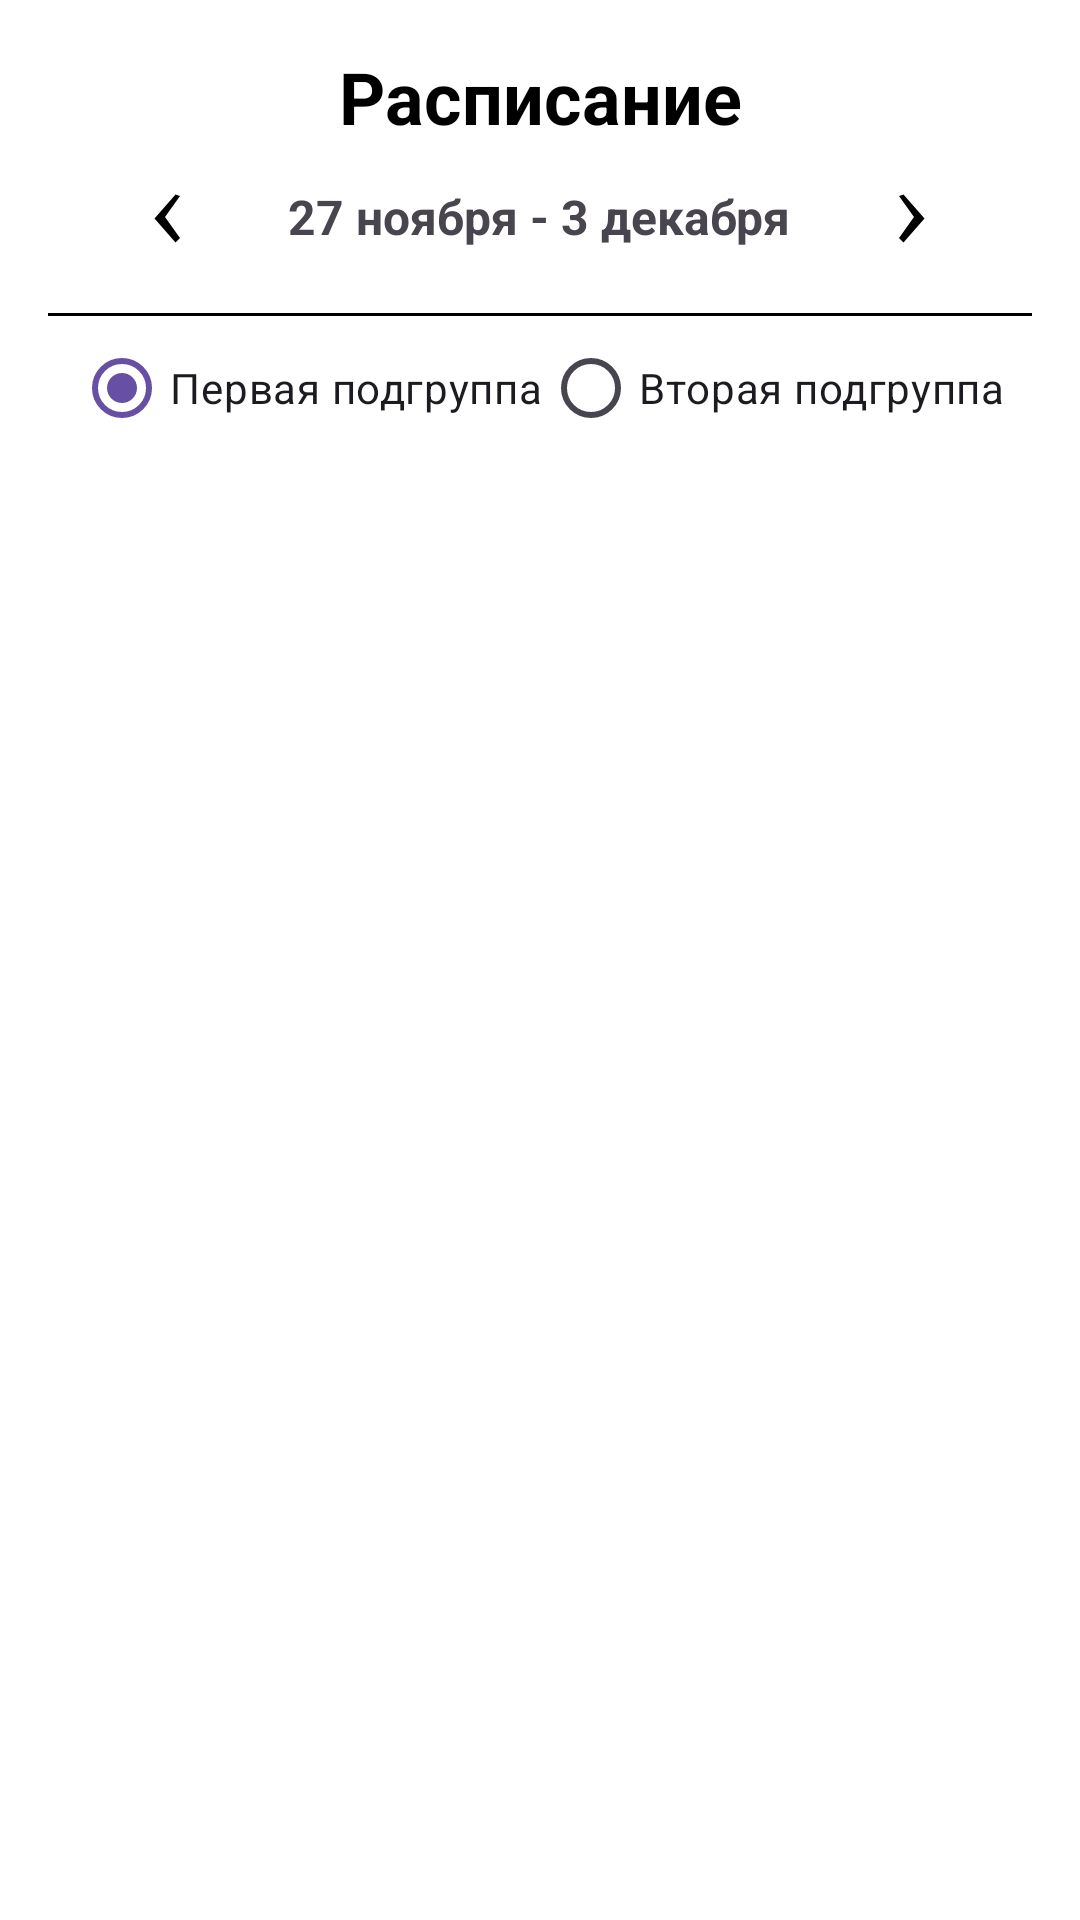

Icon bounding boxes for this 1080px×1920px phone screenshot, format detection(x1, y1, x2, y2):
Предыдущая неделя: detection(154, 194, 180, 243)
Следующая неделя: detection(899, 194, 925, 243)
